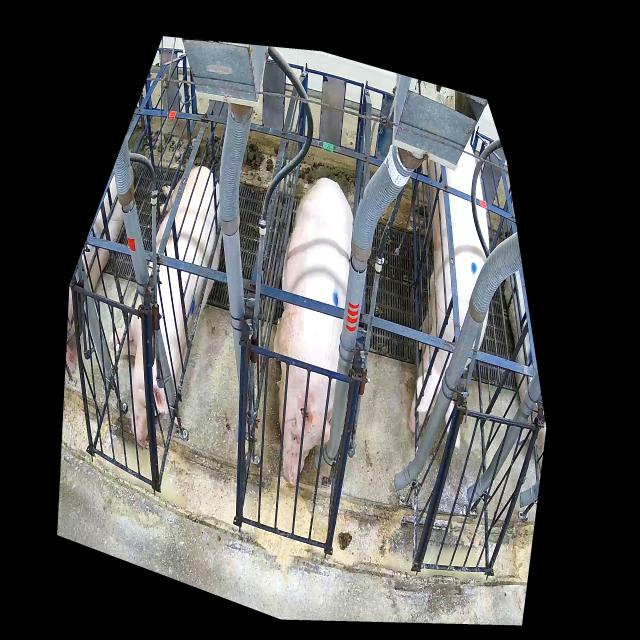pig: (108, 166, 222, 446), (408, 141, 489, 450), (273, 178, 354, 485)
